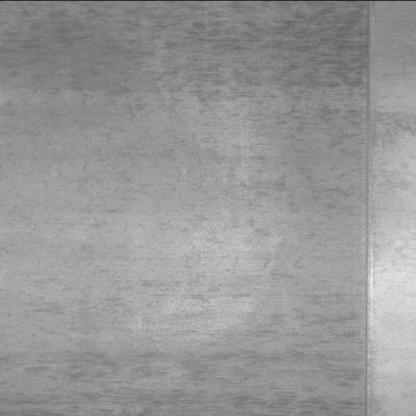welding_line: (356, 0, 388, 414)
